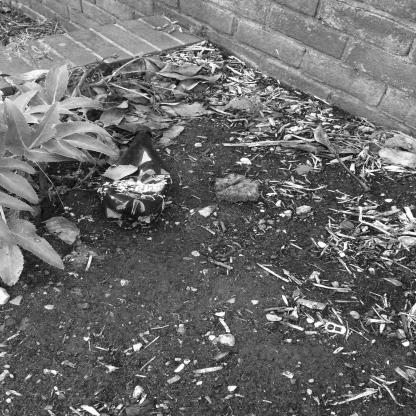plastic: (96, 125, 174, 221)
